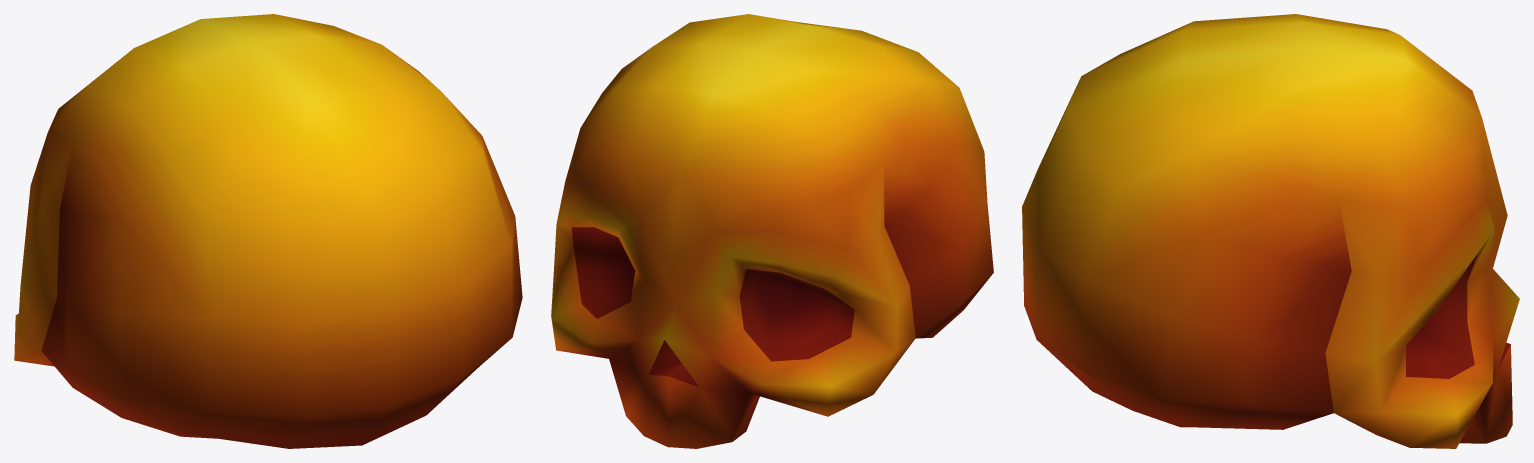
File: goldSkull.glb
3 renders of one model, left to right at view 1: azimuth 30°, elevation 25°; view 2: azimuth 150°, elevation 25°; view 3: azimuth 270°, elevation 25°, orthographic. The views are drawn at different scales.
Parts seen in each view (by area): view 1: goldSkull; view 2: goldSkull; view 3: goldSkull.
Boxes of the visible parts, x1,y1,x2,y2 form: goldSkull: [14, 14, 522, 448]; goldSkull: [551, 14, 993, 448]; goldSkull: [1022, 14, 1519, 448].
Bounding box in the file's own units: 5.06 × 4.34 × 5.18.
1 material, 1 textured.
